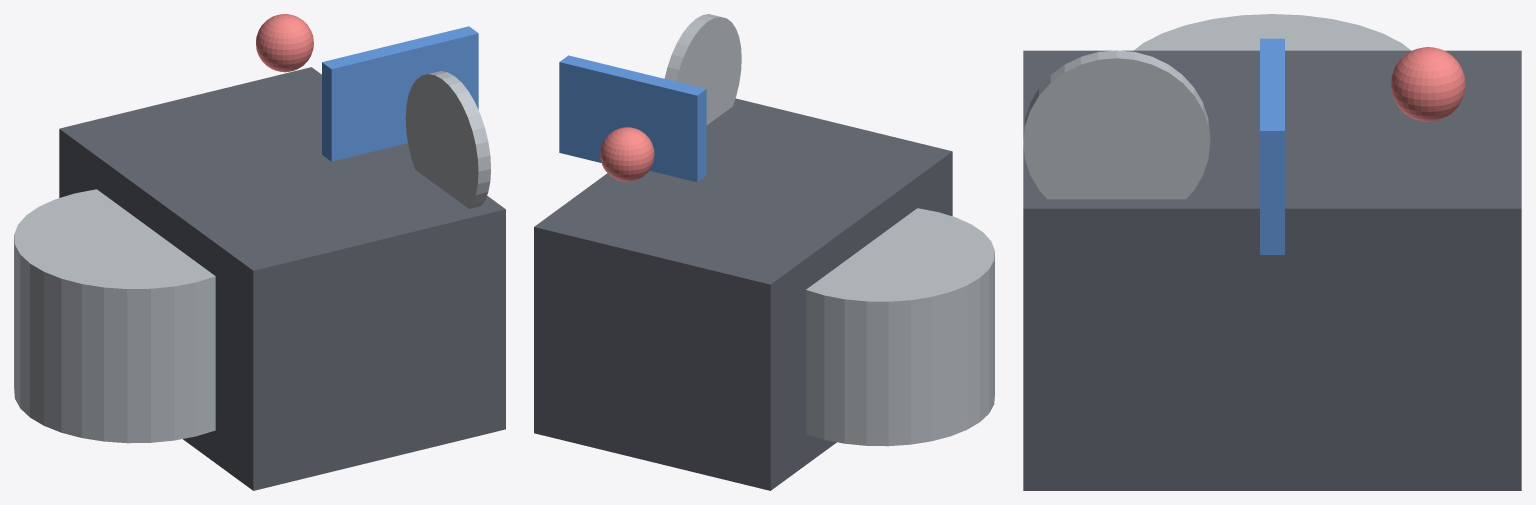
Rendered from asset_camera.glb.
3 renders of one model, left to right at view 1: azimuth 30°, elevation 25°; view 2: azimuth 150°, elevation 25°; view 3: azimuth 270°, elevation 25°, orthographic. The views are drawn at different scales.
Parts seen in each view (by area): view 1: body, lens, lcd, dial, btn_red; view 2: body, lens, lcd, dial, btn_red; view 3: body, dial, lens, lcd, btn_red.
Part boxes in pixels (x1=…): body: x1=59, y1=67, x2=505, y2=490; lens: x1=14, y1=189, x2=215, y2=443; lcd: x1=322, y1=26, x2=478, y2=161; dial: x1=405, y1=71, x2=490, y2=208; btn_red: x1=256, y1=14, x2=313, y2=72; body: x1=534, y1=98, x2=952, y2=490; lens: x1=806, y1=208, x2=994, y2=446; lcd: x1=559, y1=55, x2=706, y2=182; dial: x1=664, y1=14, x2=741, y2=124; btn_red: x1=600, y1=127, x2=654, y2=181; body: x1=1023, y1=50, x2=1521, y2=490; dial: x1=1023, y1=50, x2=1210, y2=199; lens: x1=1134, y1=14, x2=1410, y2=50; lcd: x1=1260, y1=38, x2=1284, y2=254; btn_red: x1=1391, y1=47, x2=1465, y2=121.
Size of the model in its own units: 1.05 by 0.75 by 0.8.
